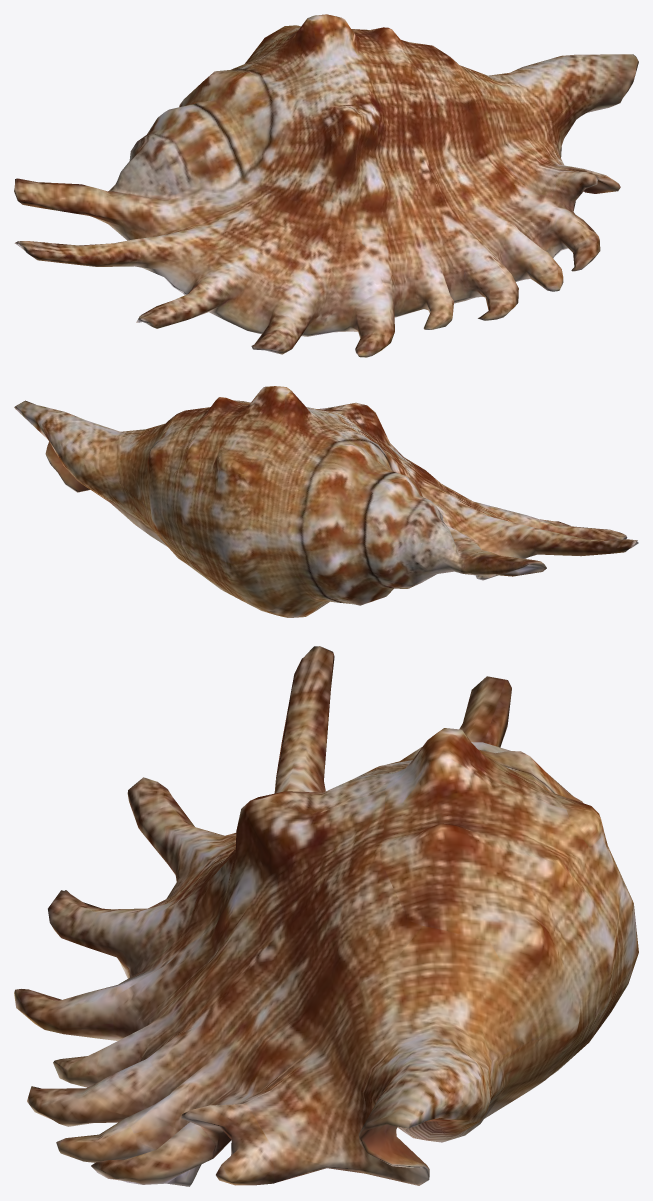
The model's file is lambis_shell.glb.
The picture shows the model from 3 angles, top to bottom: view 1: azimuth 30°, elevation 25°; view 2: azimuth 150°, elevation 25°; view 3: azimuth 270°, elevation 25°; orthographic projection. The views are drawn at different scales.
Visible parts, largest first — view 1: lambis_shell; view 2: lambis_shell; view 3: lambis_shell.
Boxes of the visible parts, <box> form: lambis_shell: <box>14,14,638,357</box>; lambis_shell: <box>14,386,638,617</box>; lambis_shell: <box>14,646,638,1186</box>.
Size of the model in its own units: 0.1395 by 0.0464 by 0.0744.
Materials: 1 (1 with a texture image).
